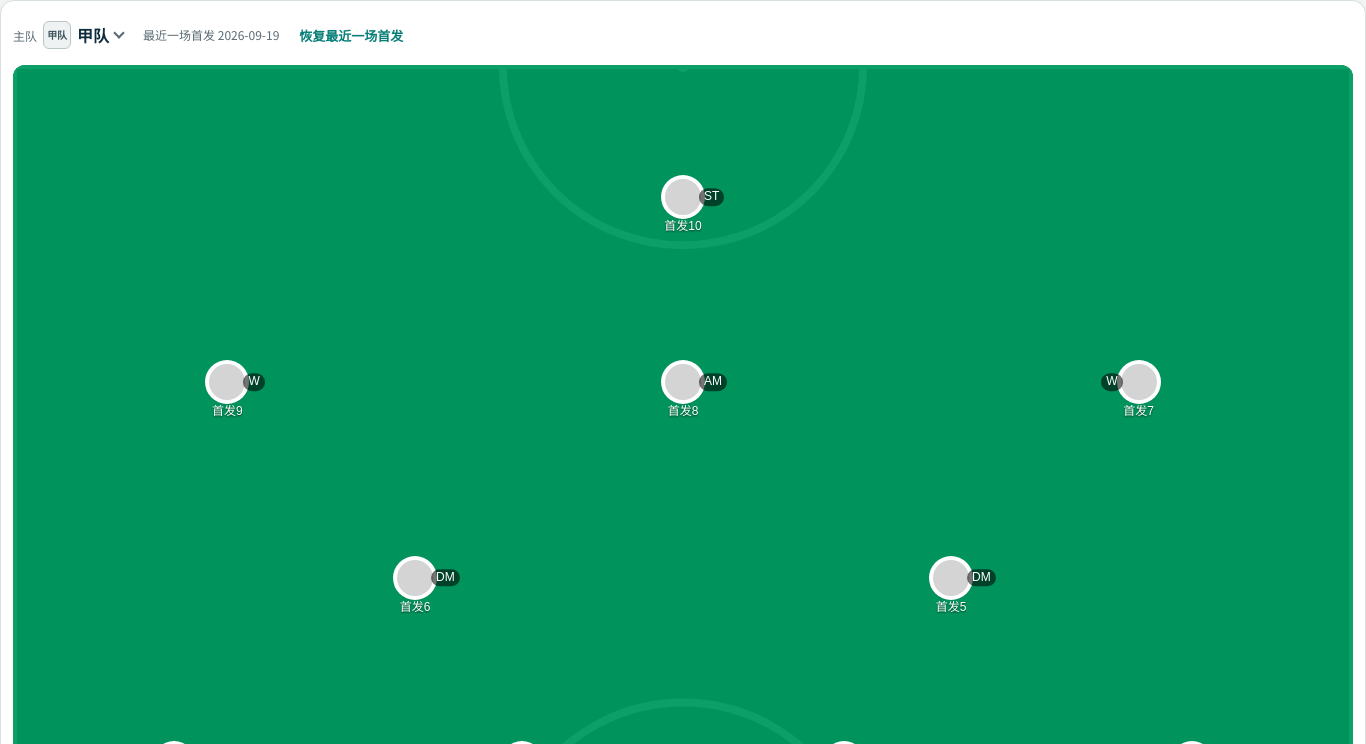
Test: 选人面板 › 点中锋位置打开面板:标题带位置,推荐球员是同位置的替补,当前球员不在列表里
Click the button with test id "slot-10" at (683, 205), box [645,177,721,233]
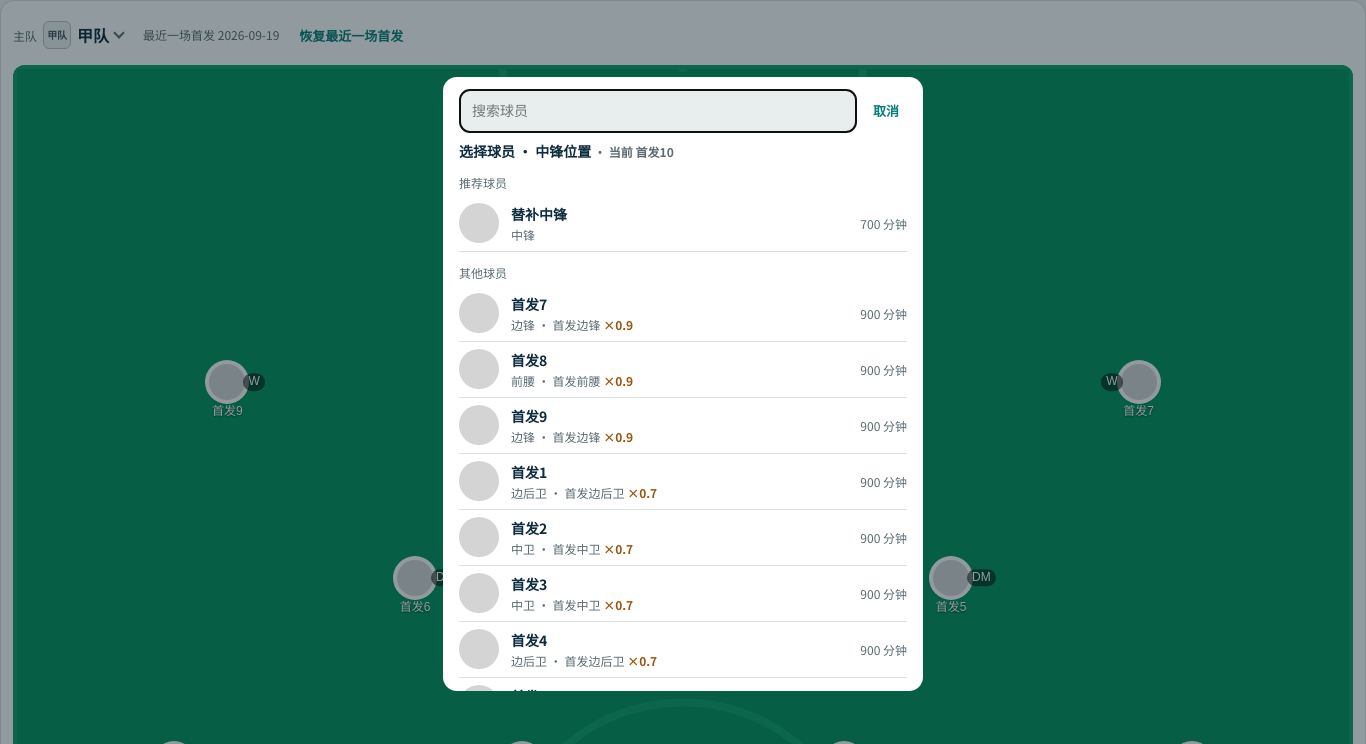
Now the button with test id "pick-b1" is shown, box [459,196,907,252]
